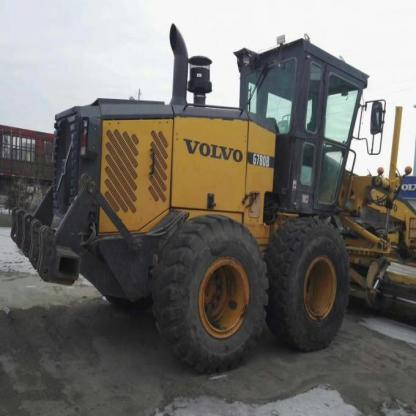bull_dozer/loader/grader: (11, 16, 415, 369)
